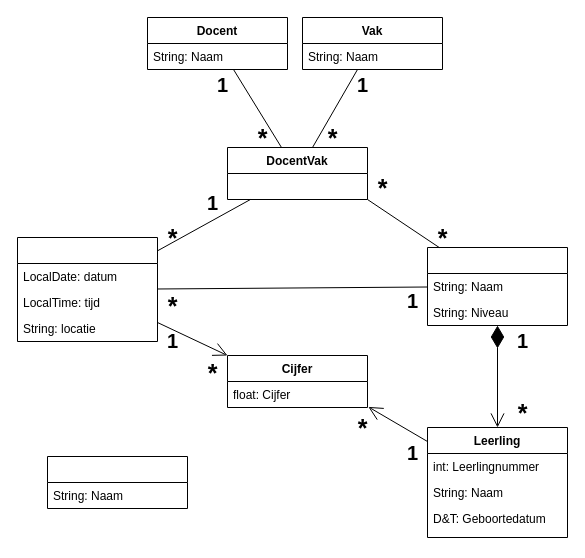
This 585x558 diagram has some shape labels left out. The box of each missing label's shape, as (x1, y1, x2, y2) in pixels:
Admin: (46, 456, 188, 508)
Klas: (426, 246, 568, 326)
Toets: (16, 236, 158, 342)
